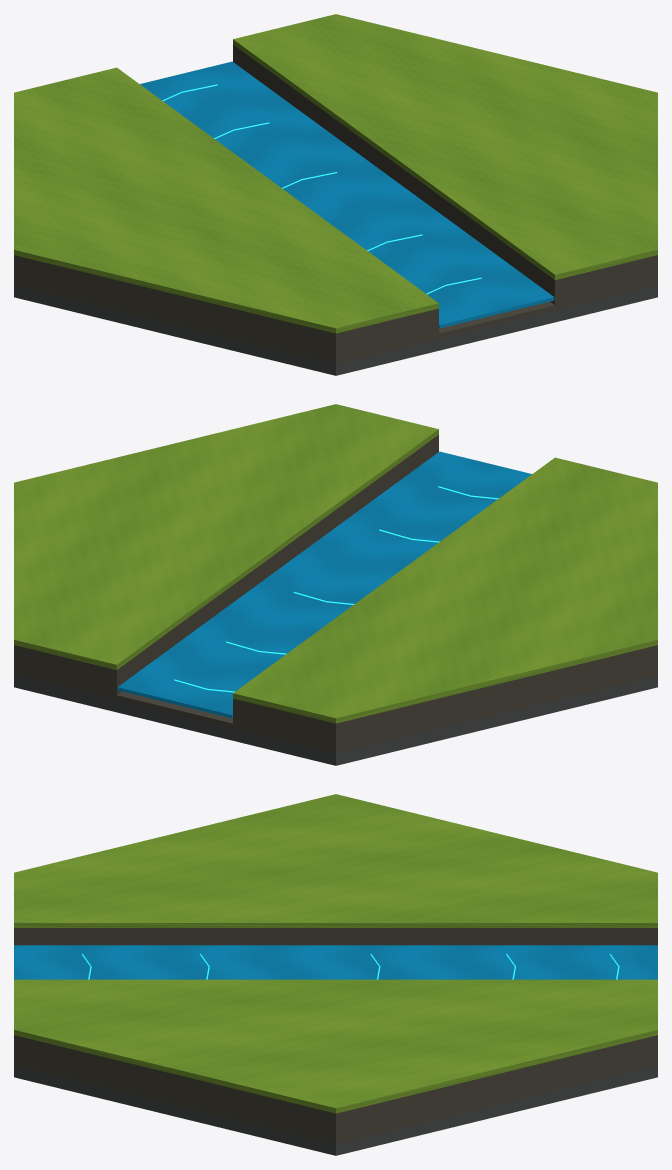
Rendered from forest_hex_stream.glb.
3 views of the same model, one above another, from view 1: azimuth 30°, elevation 25°; view 2: azimuth 150°, elevation 25°; view 3: azimuth 270°, elevation 25° (orthographic).
Visible parts, largest first — view 1: Meadow river bank, Meadow river bank.001, Continuous river water, Cut river bank, Cut river bank.001, River hex stone foundation, River hex bed; view 2: Meadow river bank, Meadow river bank.001, Continuous river water, Cut river bank, Cut river bank.001, River hex stone foundation, River hex bed; view 3: Meadow river bank.001, Meadow river bank, Continuous river water, Cut river bank.001, Cut river bank, River hex stone foundation, River hex bed.
Part boxes in pixels (x1,y1,x2,y2): Meadow river bank: [14, 67, 438, 333]; Meadow river bank.001: [233, 14, 657, 279]; Continuous river water: [140, 61, 554, 328]; Cut river bank: [14, 255, 438, 358]; Cut river bank.001: [233, 44, 657, 305]; River hex stone foundation: [14, 285, 657, 375]; River hex bed: [14, 280, 657, 363]; Meadow river bank: [233, 457, 657, 723]; Meadow river bank.001: [14, 404, 438, 669]; Continuous river water: [117, 451, 531, 718]; Cut river bank: [233, 645, 657, 748]; Cut river bank.001: [14, 434, 438, 695]; River hex stone foundation: [14, 675, 657, 765]; River hex bed: [14, 670, 657, 753]; Meadow river bank.001: [14, 979, 657, 1113]; Meadow river bank: [14, 794, 657, 927]; Continuous river water: [14, 945, 657, 979]; Cut river bank.001: [14, 1035, 657, 1138]; Cut river bank: [14, 928, 657, 945]; River hex stone foundation: [14, 1065, 657, 1155]; River hex bed: [14, 1060, 657, 1143].
Bounding box in the file's own units: 5.1 × 0.36 × 4.42.
Materials: 5 (3 with a texture image).
